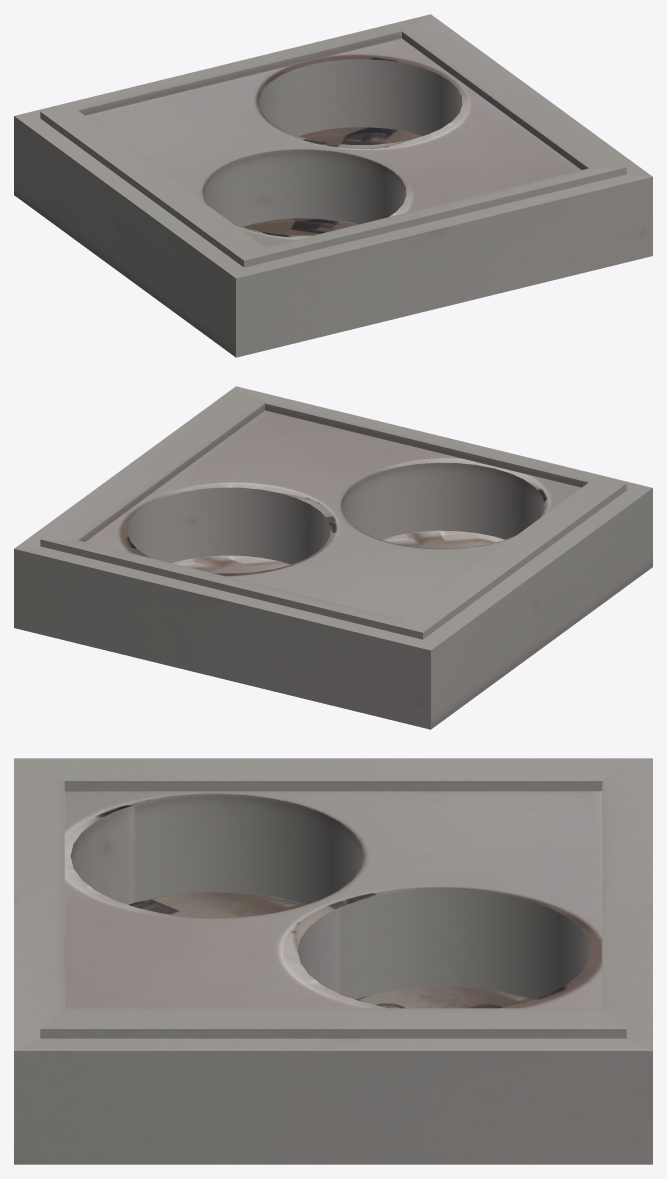
Rendered from Socket.FBX.
3 renders of one model, top to bottom at view 1: azimuth 30°, elevation 25°; view 2: azimuth 150°, elevation 25°; view 3: azimuth 270°, elevation 25°, orthographic. The views are drawn at different scales.
Parts seen in each view (by area): view 1: Socket; view 2: Socket; view 3: Socket.
Part boxes in pixels (bbox=[...]): Socket: bbox=[14, 14, 652, 357]; Socket: bbox=[14, 386, 652, 729]; Socket: bbox=[14, 758, 652, 1164].
Bounding box in the file's own units: 129 × 119 × 25.42.
